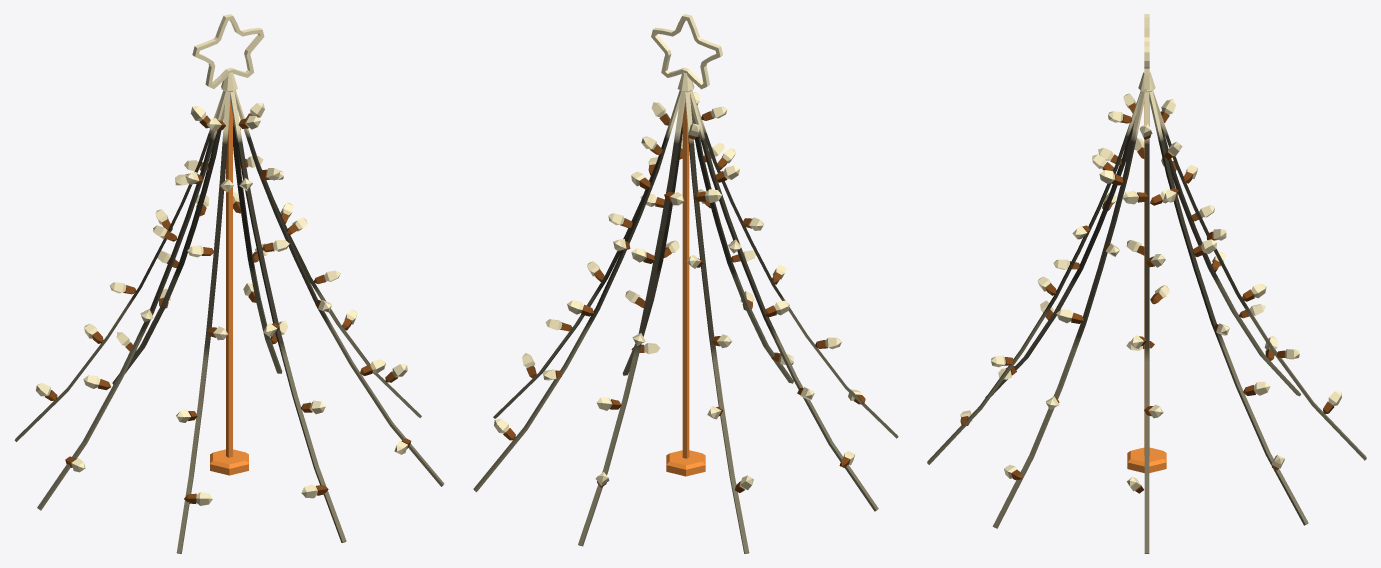
Rendered from SM_Prop_Light_Tree_01.fbx.
The picture shows the model from 3 angles, left to right: view 1: azimuth 30°, elevation 25°; view 2: azimuth 150°, elevation 25°; view 3: azimuth 270°, elevation 25°; orthographic projection.
Visible parts, largest first — view 1: SM_Prop_Light_Tree_01; view 2: SM_Prop_Light_Tree_01; view 3: SM_Prop_Light_Tree_01.
Part boxes in pixels (x1,y1,x2,y2): SM_Prop_Light_Tree_01: [14, 14, 444, 553]; SM_Prop_Light_Tree_01: [473, 14, 898, 553]; SM_Prop_Light_Tree_01: [927, 14, 1366, 553].
Bounding box in the file's own units: 362 × 407 × 362.
